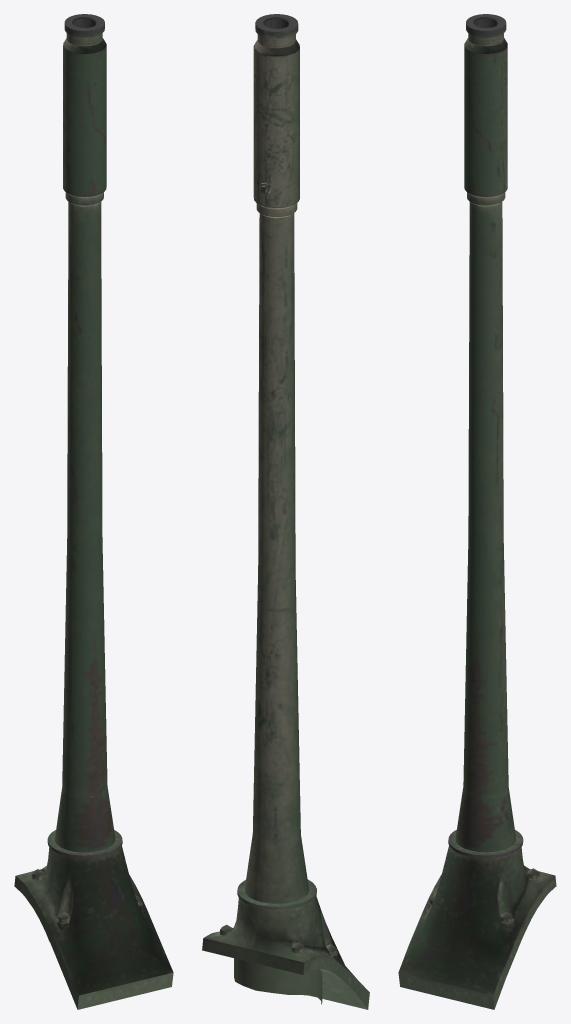
The model's file is Gun_01.glb.
3 views of the same model, side by side, from view 1: azimuth 30°, elevation 25°; view 2: azimuth 150°, elevation 25°; view 3: azimuth 330°, elevation 25° (orthographic). The views are drawn at different scales.
Visible parts, largest first — view 1: set_0_group_0; view 2: set_0_group_0; view 3: set_0_group_0.
Boxes of the visible parts, <box> form: set_0_group_0: <box>14,14,173,1009</box>; set_0_group_0: <box>202,14,369,1009</box>; set_0_group_0: <box>398,14,556,1009</box>.
Bounding box in the file's own units: 0.4703 × 4.44 × 0.5407.
1 material, 1 textured.
